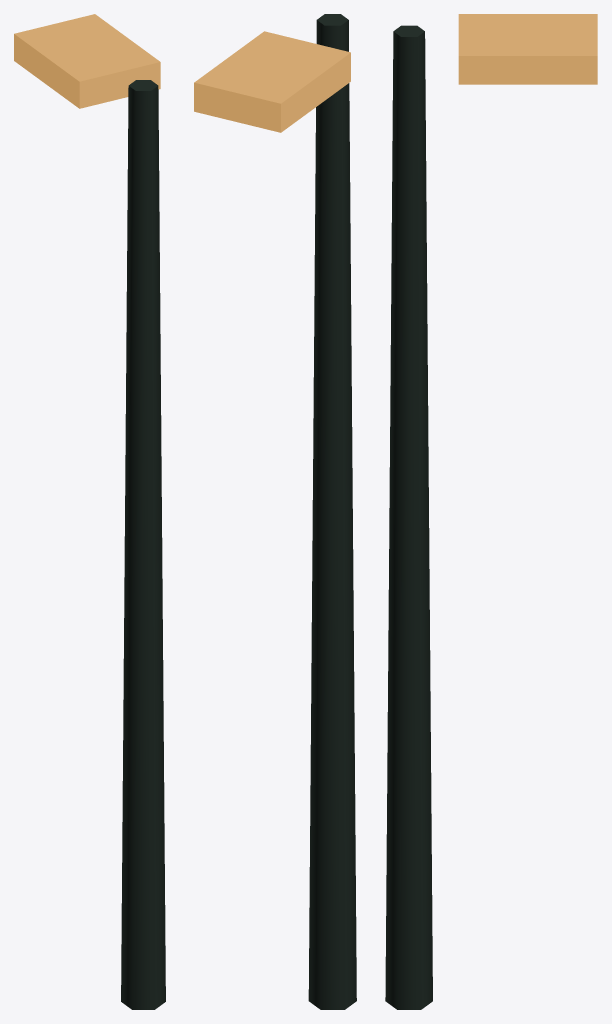
File: Kulisse_22.glb
3 renders of one model, left to right at view 1: azimuth 30°, elevation 25°; view 2: azimuth 150°, elevation 25°; view 3: azimuth 270°, elevation 25°, orthographic. The views are drawn at different scales.
Parts seen in each view (by area): view 1: Kulisse_22; view 2: Kulisse_22; view 3: Kulisse_22.
Part boxes in pixels (box(x1,y1,x2,y2)): Kulisse_22: box(14, 14, 165, 1009); Kulisse_22: box(194, 14, 356, 1009); Kulisse_22: box(385, 14, 597, 1009).
Bounding box in the file's own units: 0.5 × 5.4 × 1.07.
